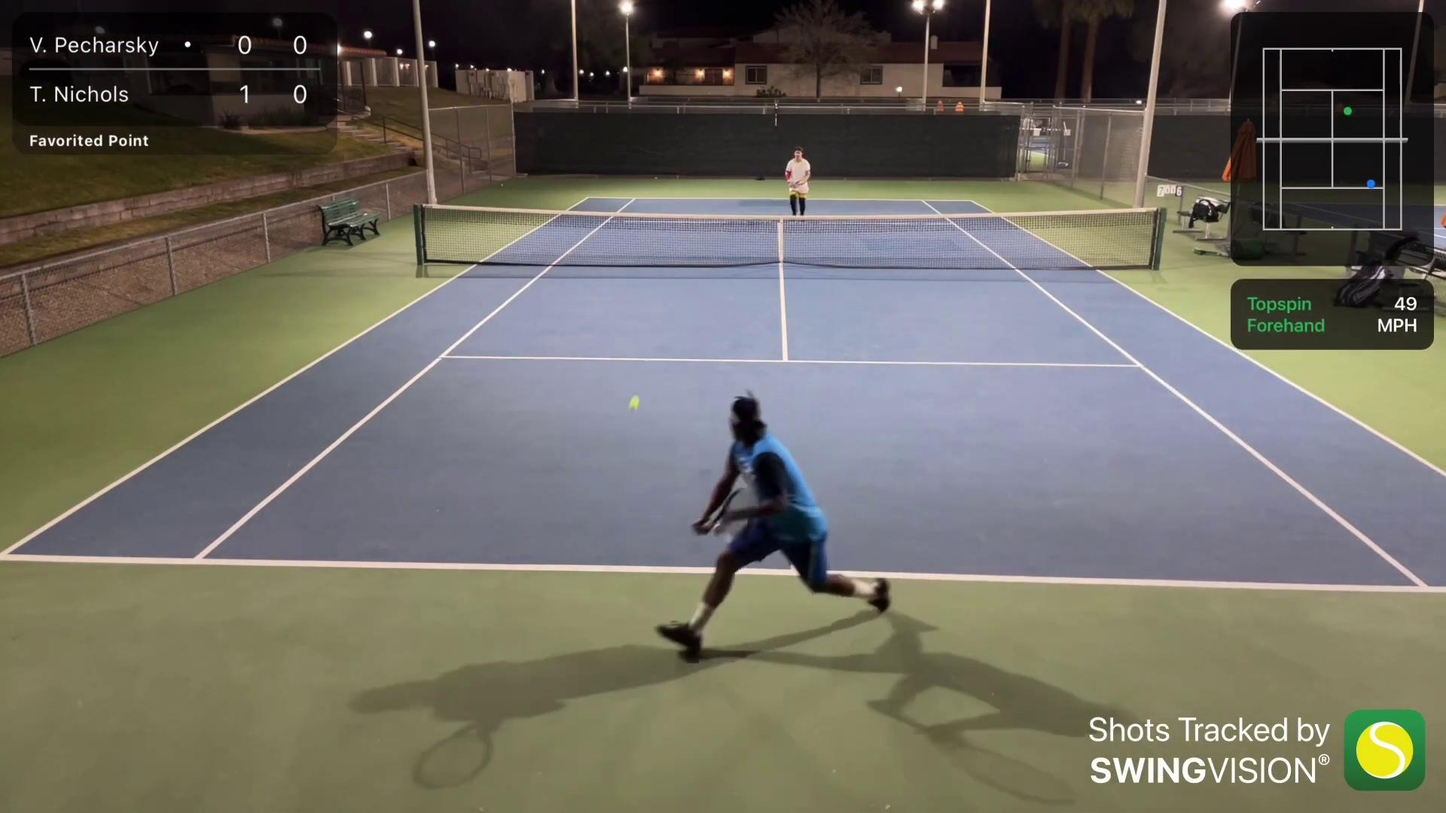ball: (624, 393, 645, 413), (499, 184, 505, 187)
